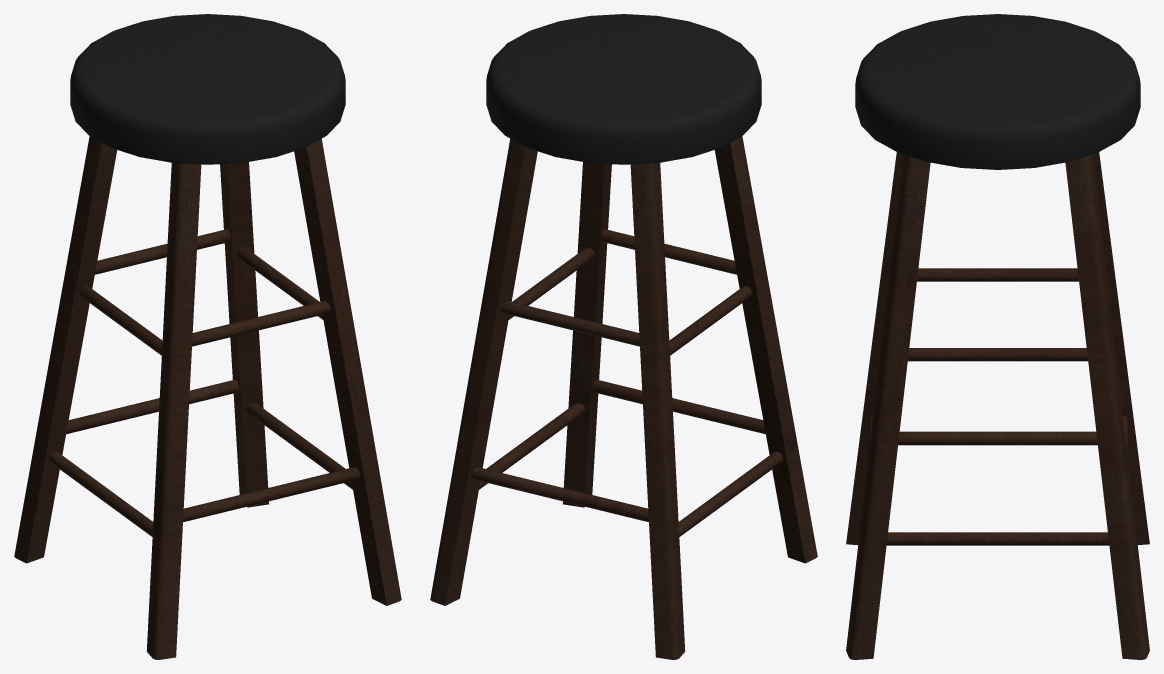
Rendered from BarChair04.FBX.
3 renders of one model, left to right at view 1: azimuth 30°, elevation 25°; view 2: azimuth 150°, elevation 25°; view 3: azimuth 270°, elevation 25°, orthographic. The views are drawn at different scales.
Parts seen in each view (by area): view 1: BarChair04; view 2: BarChair04; view 3: BarChair04.
Part boxes in pixels (<box>): BarChair04: <box>14,14,401,659</box>; BarChair04: <box>430,14,817,659</box>; BarChair04: <box>846,14,1149,659</box>.
Size of the model in its own units: 436 by 857 by 448.
